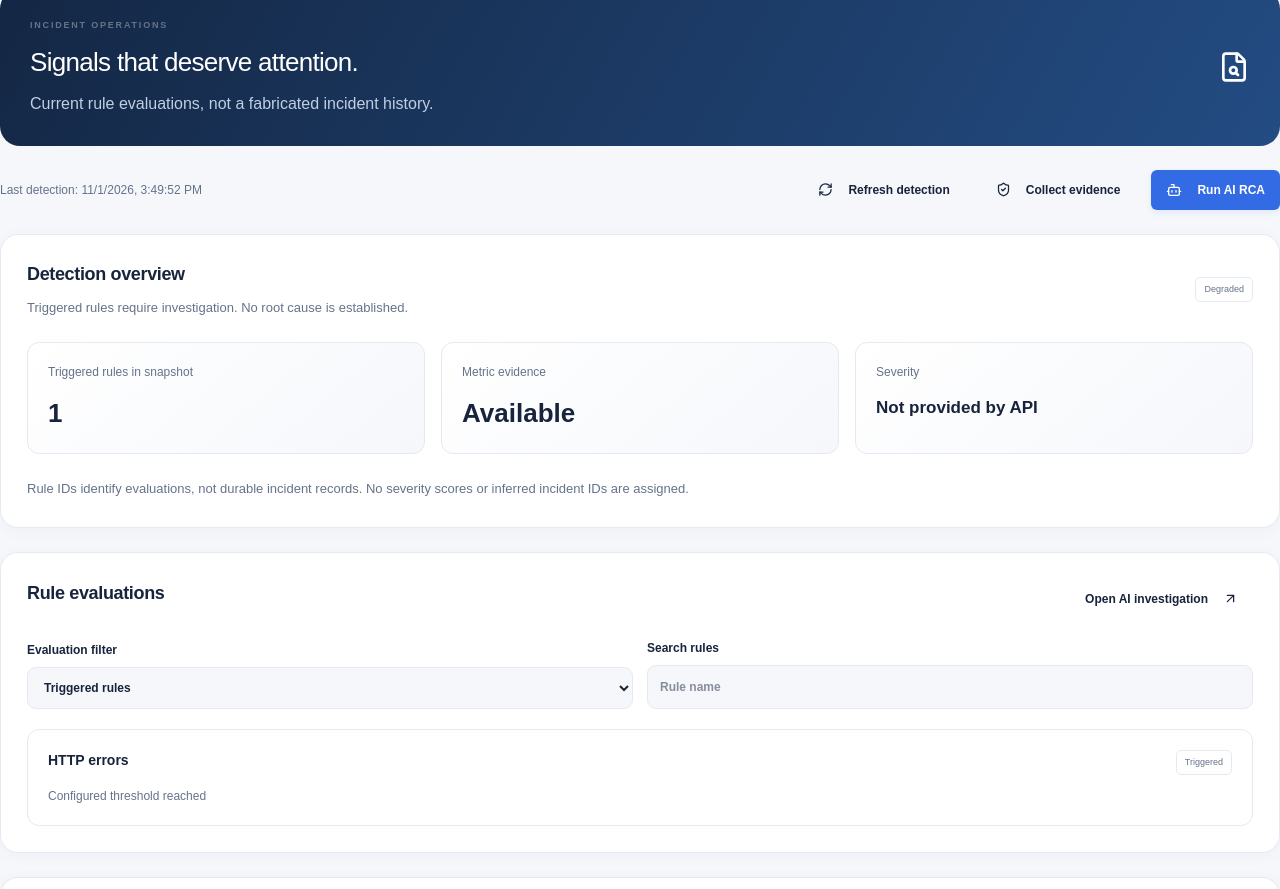
incident investigation › requires explicit AI confirmation and prevents duplicate workflow submission
Expected: the button "HTTP errors Triggered Configured threshold reached" is shown, [27,729,1253,826]
Step 1. Click the button "Run AI RCA" → (1216, 190), box [1152,170,1279,210]
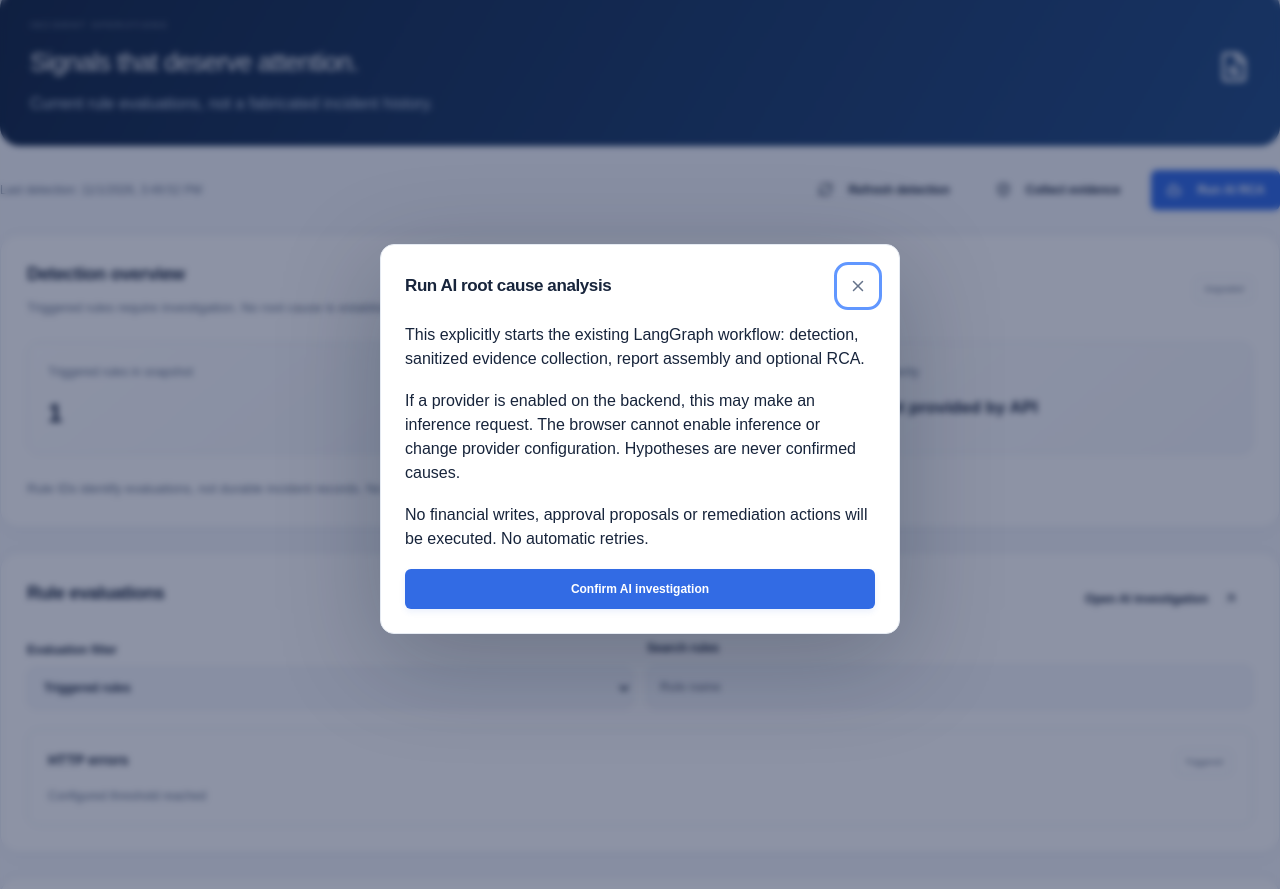
Step 2. Click the button "Confirm AI investigation" → (640, 589), box [405,569,875,609]
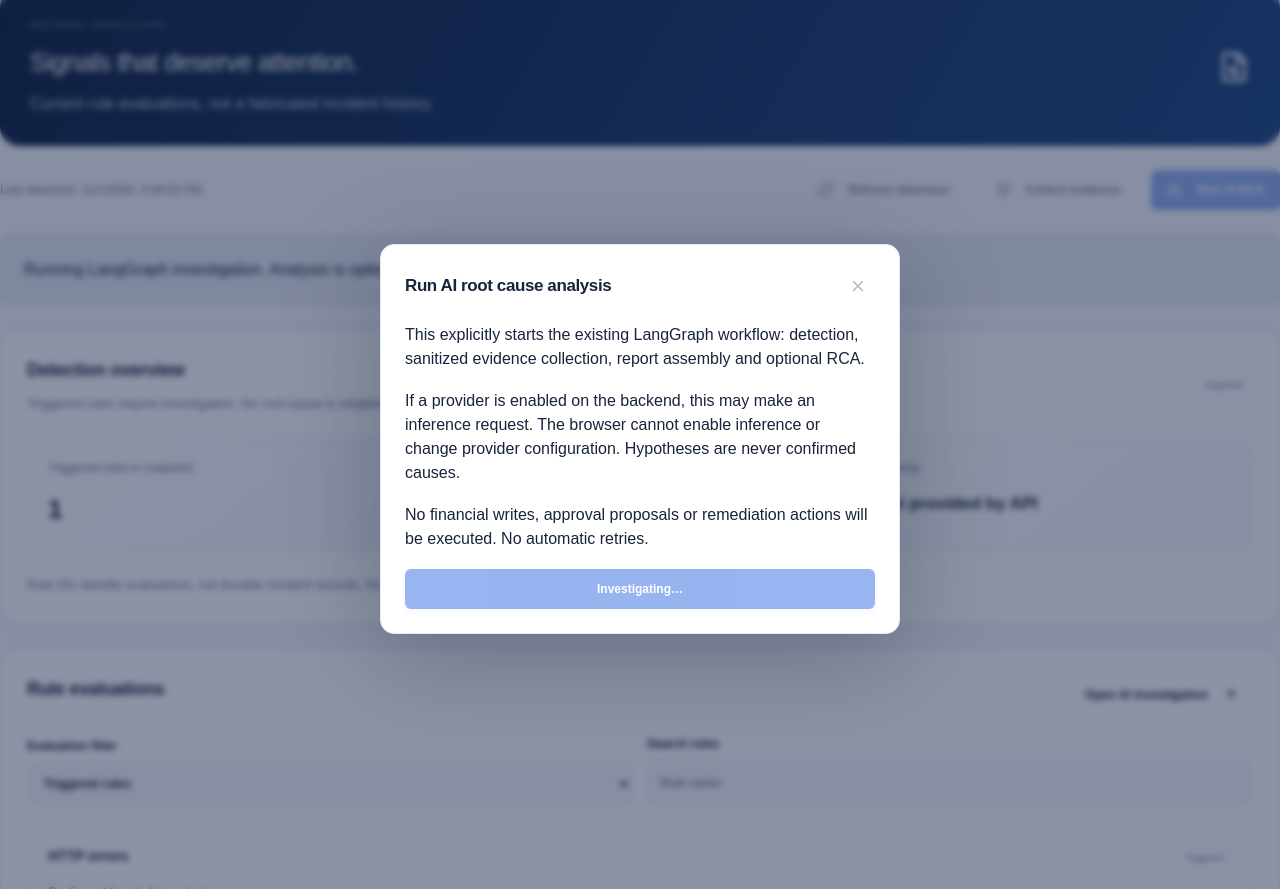
Step 3. Click the button named "Confirm AI investigation" → (640, 589), box [405,569,875,609]
(page scrolled)
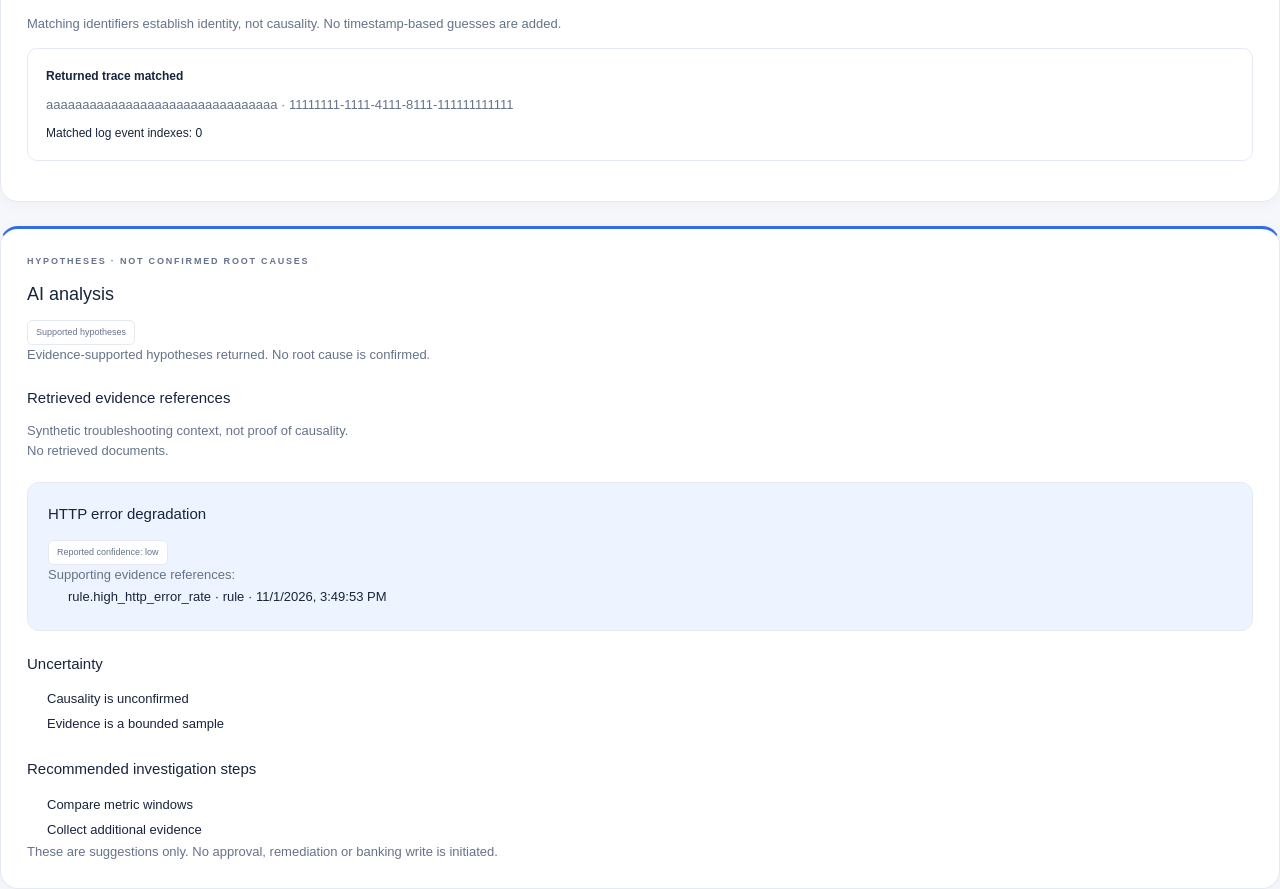
Now the text "Reported confidence: low" is shown, box [48,540,168,565]
Now the list item "Causality is unconfirmed" is shown, box [47,691,189,706]
Now the list item "rule.high_http_error_rate · rule · 11/1/2026, 3:49:53 PM" is shown, box [68,589,386,604]
